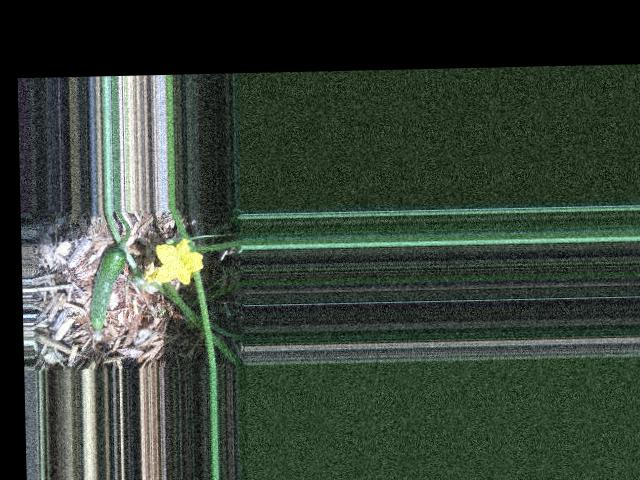cucumber: (87, 245, 128, 338)
